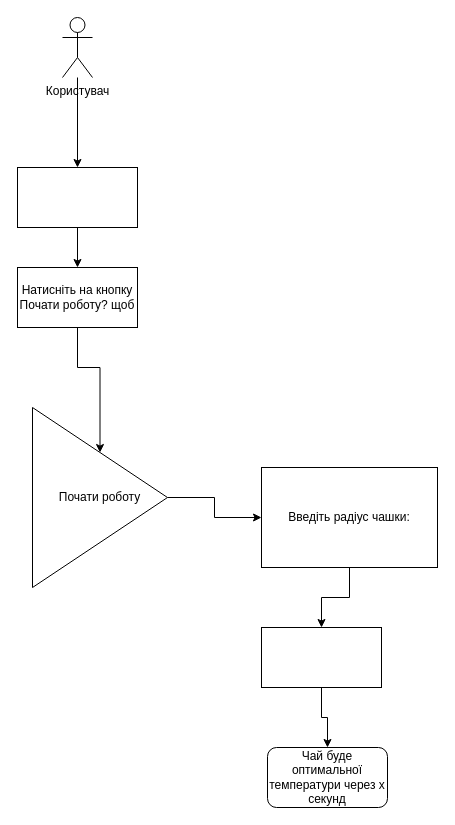
This 455x825 diagram has some shape labels left out. The shapes that lost their labels are listed below. From the top down, each one's centre as x and y in pixels, then its label:
At (x=77, y=197): "/start".
At (x=321, y=657): "Введіть скільки води у чашці у мл".
